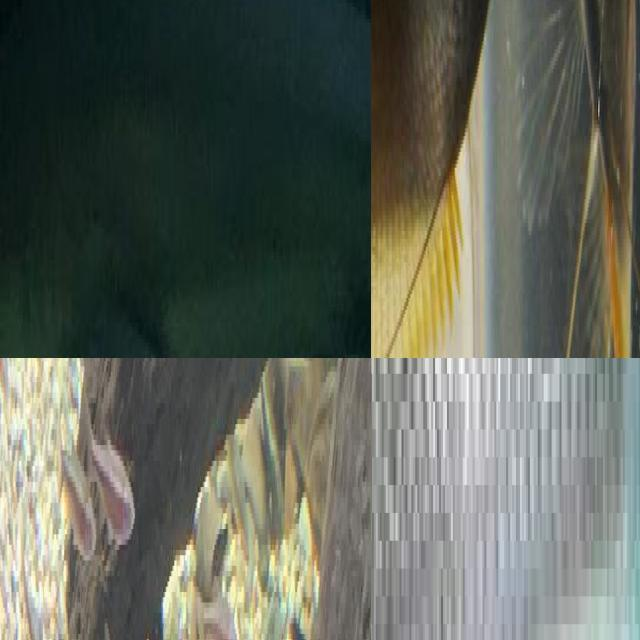fish: (0, 0, 371, 358), (371, 358, 640, 640)
